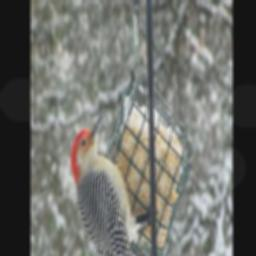Woodpecker: (70, 116, 154, 256)
